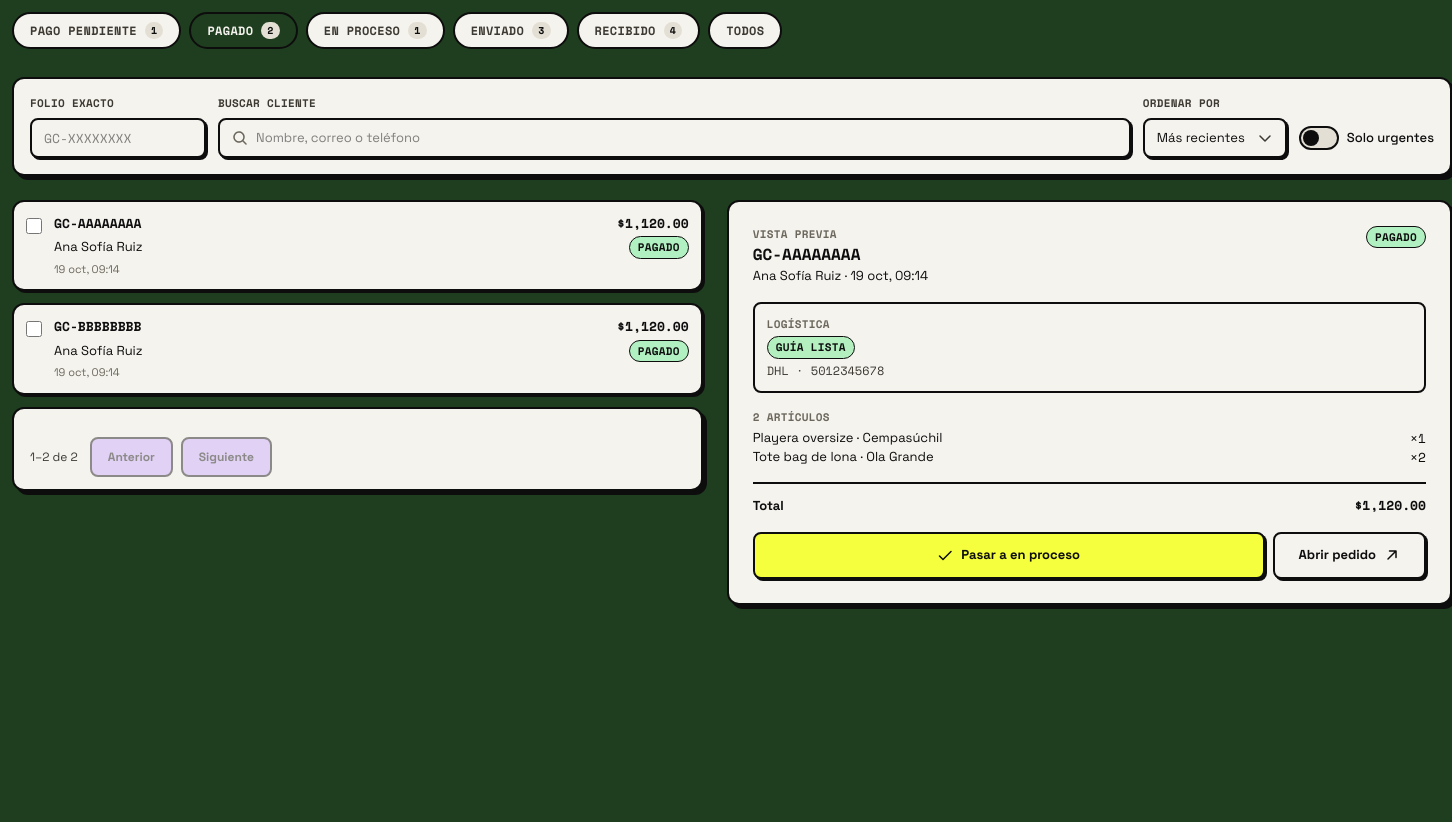
Test: OrdersPage: pestañas › cambiar de pestaña vuelve a pedir con ese estado y actualiza la URL
Expected: the link "GC-BBBBBBBB $1,120.00 Ana Sofía Ruiz pagado 19 oct, 09:14" is shown, top-left (54, 317), bottom-right (689, 381)
Click the tab "Enviado 3" at (511, 31), box top-left (453, 12), bottom-right (568, 49)
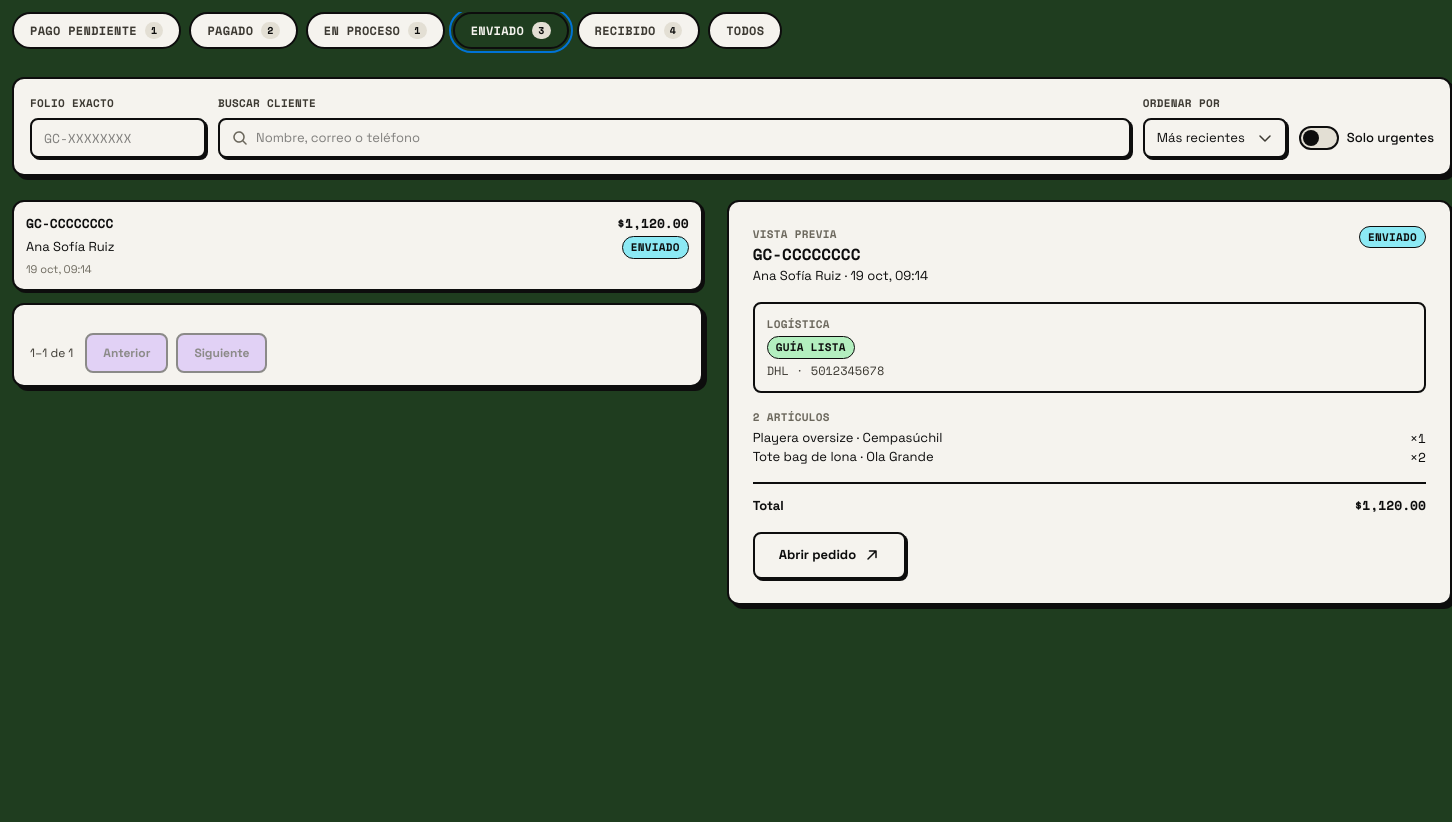
Expected: the link "GC-CCCCCCCC $1,120.00 Ana Sofía Ruiz enviado 19 oct, 09:14" is shown, top-left (26, 214), bottom-right (689, 277)
